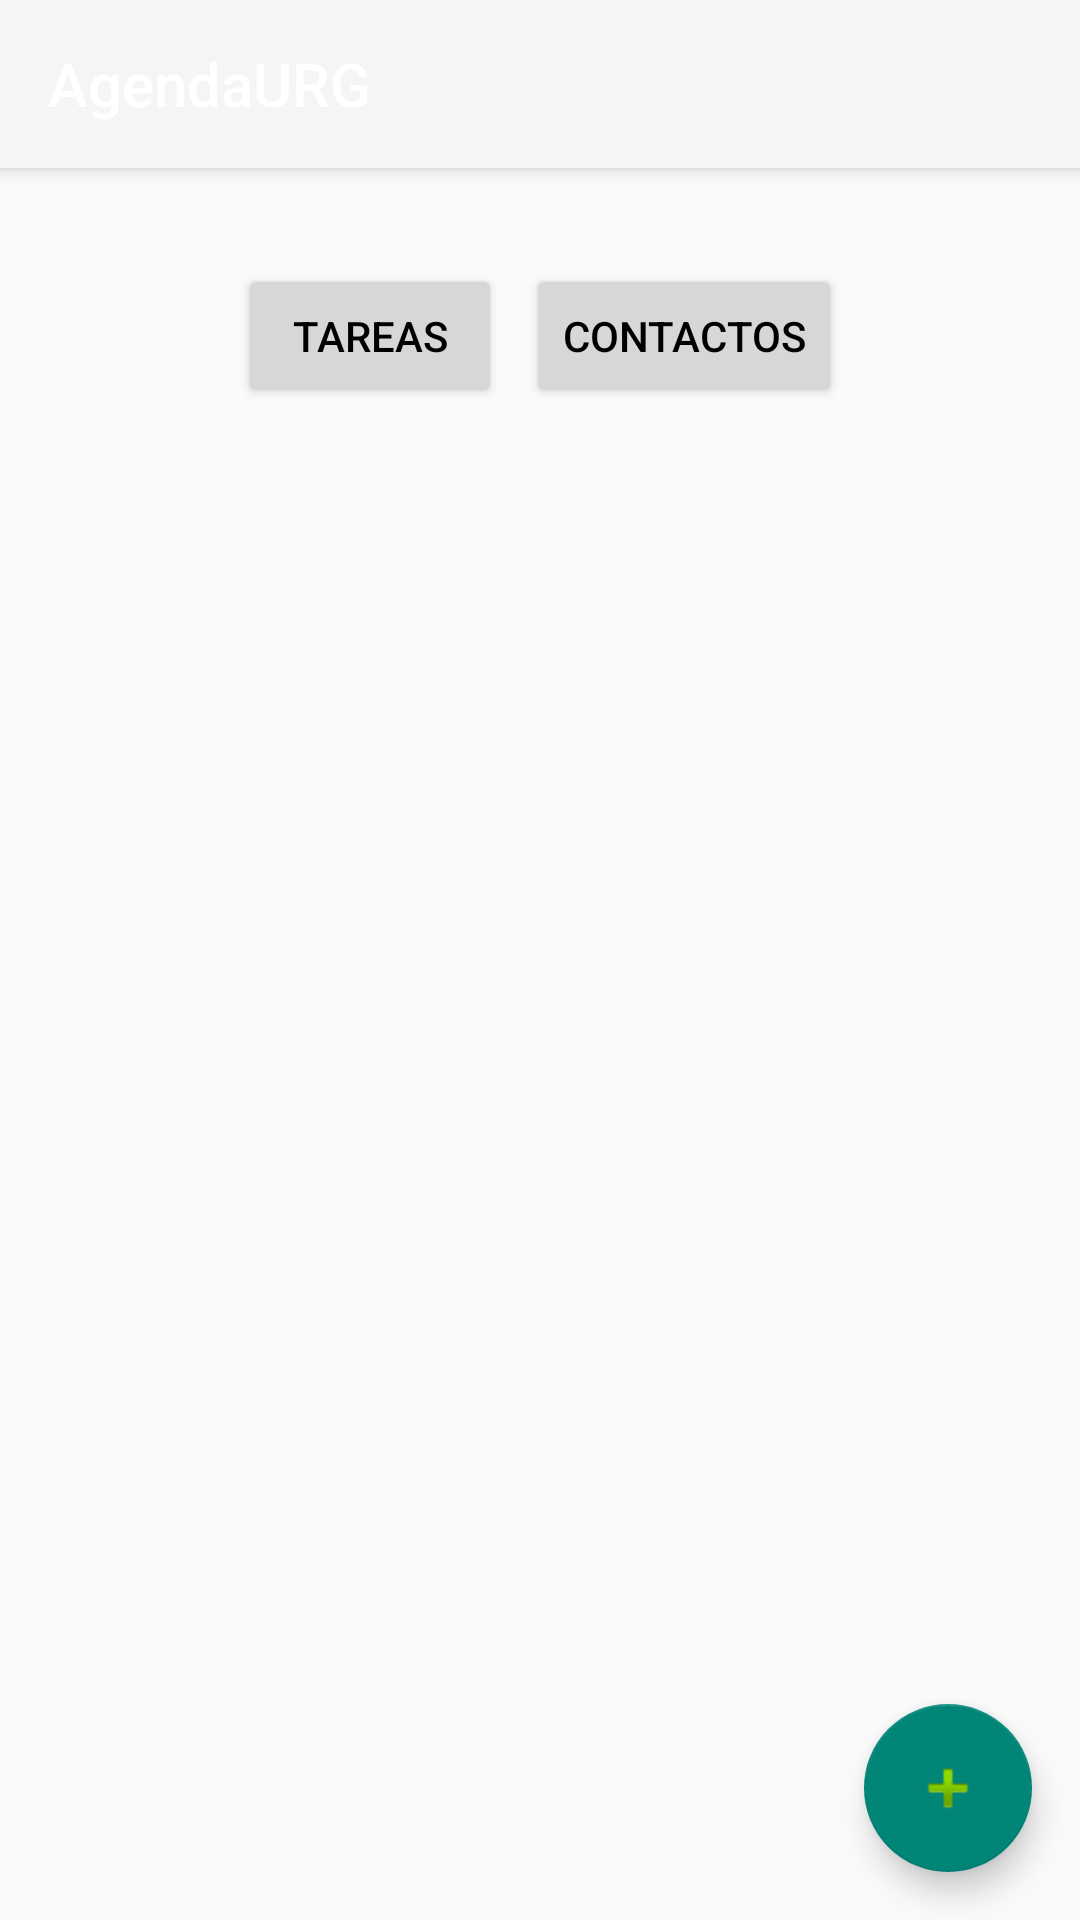

Icon bounding boxes for this 1080×1920 phone screenshot, format [left=x1, top=y1, right=x2, bottom=y2]:
Agregar elemento: [left=864, top=1704, right=1032, bottom=1872]
